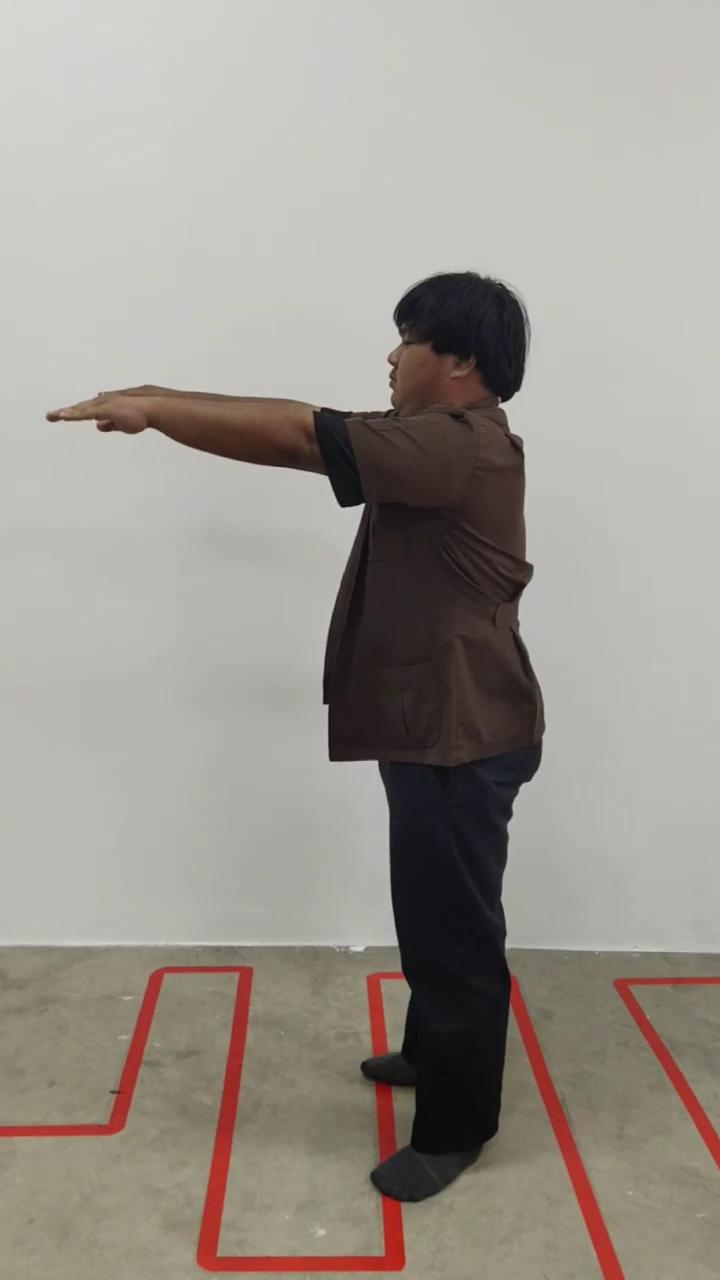squat up: (53, 270, 546, 1206)
